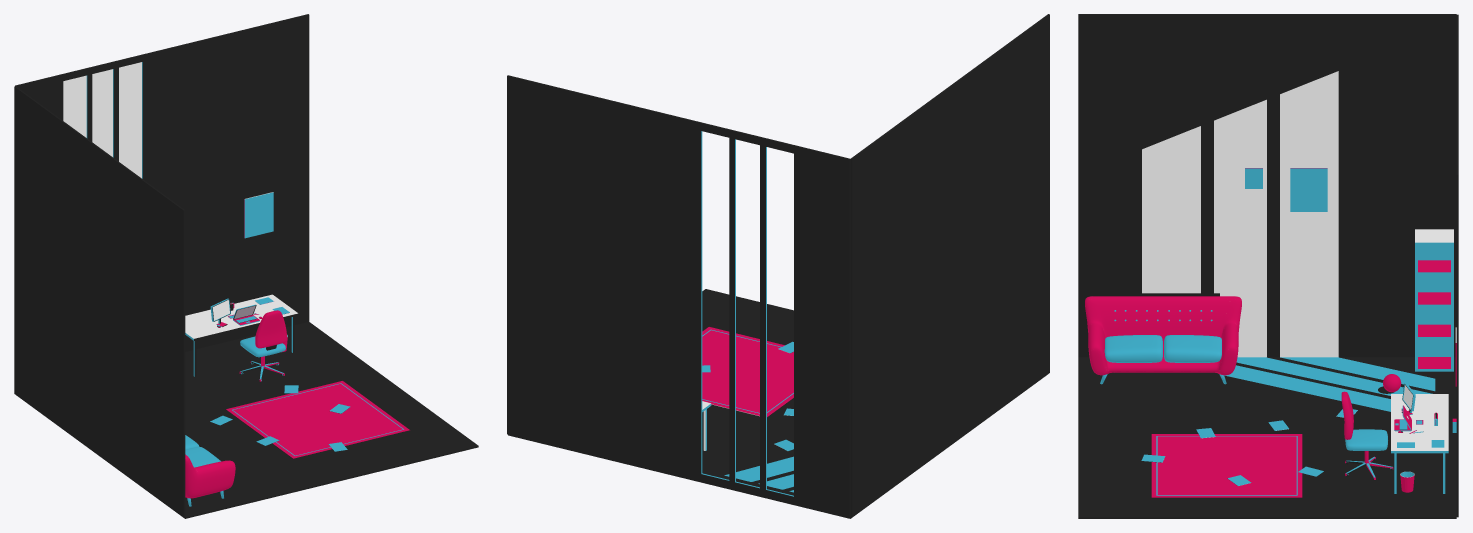
The model's file is magic-room-compressed.glb.
3 renders of one model, left to right at view 1: azimuth 30°, elevation 25°; view 2: azimuth 150°, elevation 25°; view 3: azimuth 270°, elevation 25°, orthographic. The views are drawn at different scales.
Visible parts, largest first — view 1: Cube.004, Cube, Cube.012, Plane, Circle, Plane.003, Plane.008; view 2: Cube.004, Cube; view 3: Cube.004, Cube.012, Cube, Cube.011, Plane, Plane.003, Circle, Plane.008.
Part boxes in pixels (x1,y1,x2,y2): Cube.004: (14, 14, 478, 518); Cube: (226, 381, 410, 458); Cube.012: (185, 435, 235, 506); Plane: (185, 294, 298, 340); Circle: (239, 310, 286, 381); Plane.003: (244, 192, 273, 238); Plane.008: (210, 385, 350, 451); Cube.004: (507, 14, 1049, 518); Cube: (702, 327, 793, 417); Cube.004: (1078, 14, 1458, 518); Cube.012: (1085, 296, 1241, 384); Cube: (1151, 434, 1302, 497); Cube.011: (1415, 229, 1453, 371); Plane: (1391, 394, 1448, 453); Plane.003: (1245, 168, 1456, 386); Circle: (1341, 391, 1393, 480); Plane.008: (1141, 409, 1357, 486).
Bounding box in the file's own units: 201 × 201 × 201.
1 material, 1 textured.
